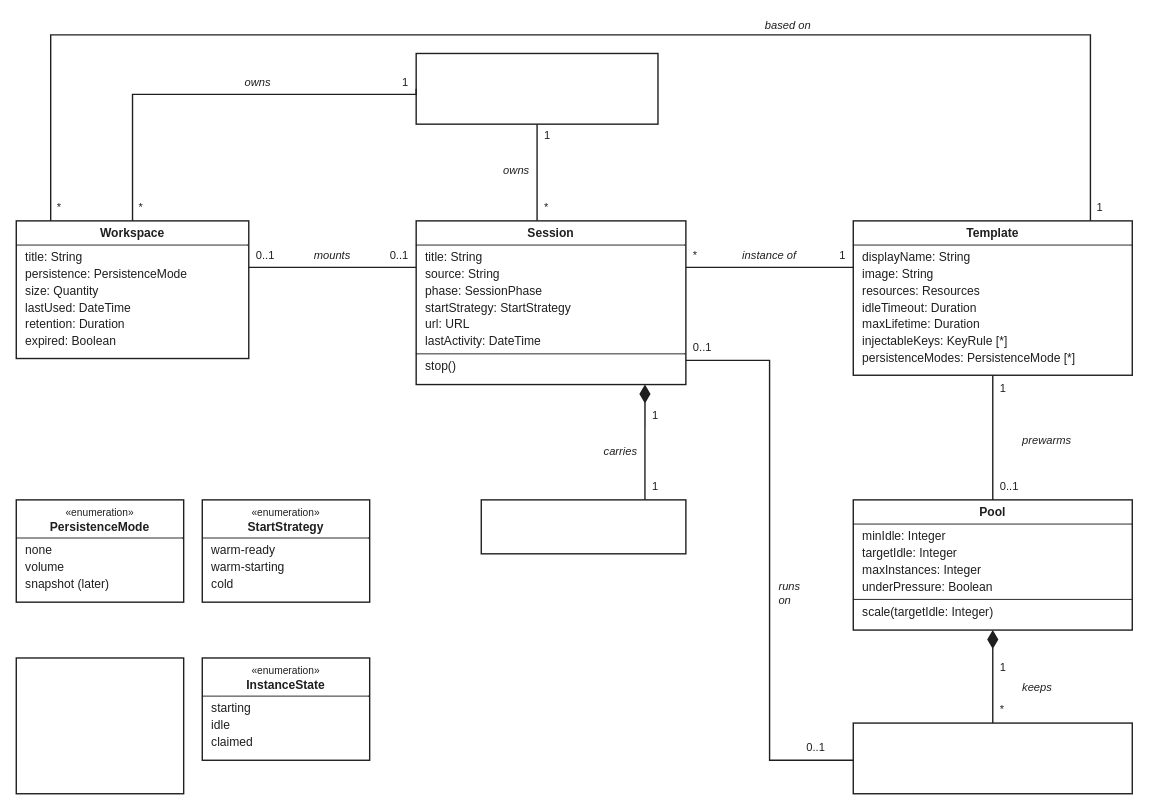
Some shapes in this 1149 by 810 pixel diagram are drawn without their labels. Here are the shapes that lost their labels. From the top down, the box of each, then its label:
(415, 52, 658, 124): User login: String email: String
(480, 499, 686, 554): LaunchData values: Map<Key, String>
(15, 657, 184, 794): «enumeration» SessionPhase Pending Starting Ready Terminating Failed
(852, 722, 1133, 794): Instance state: InstanceState createdAt: DateTime
